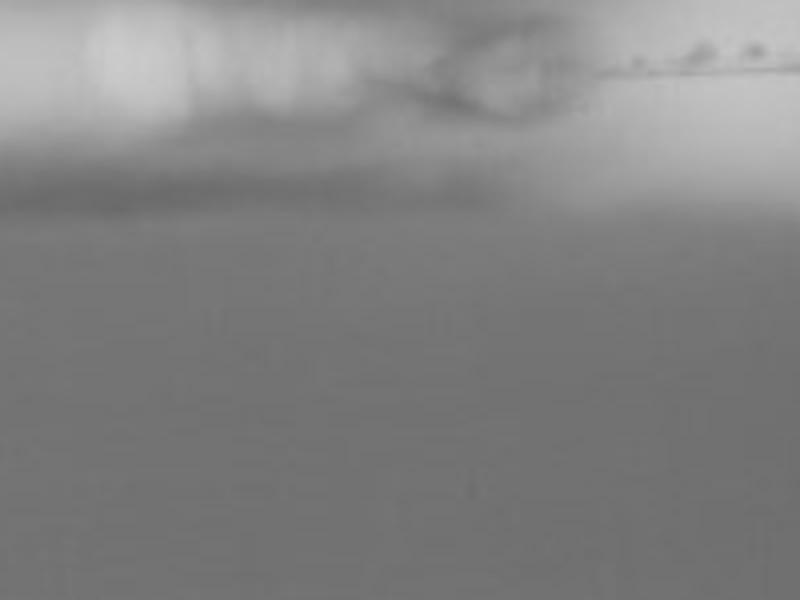defect: (673, 42, 718, 67), (739, 40, 771, 62), (630, 52, 646, 69)
